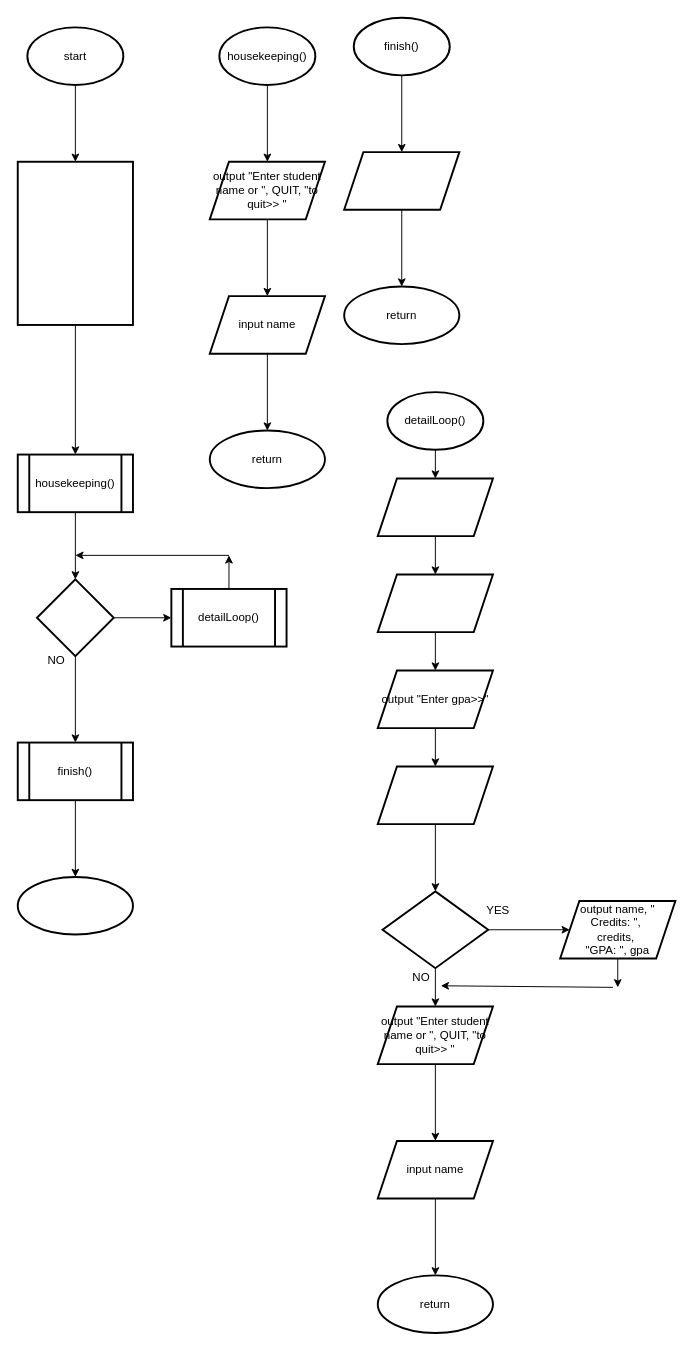
This 692x1350 diagram has some shape labels left out. Each missing label, with the centre of its shape:
credits > 60 AND gpa >= 3.5: pixel 435 929
Declarations string name = "" num credits num gpa string QUIT = "ZZZ": pixel 74 242
input credits: pixel 434 603
input gpa: pixel 434 795
name <> QUIT: pixel 75 617
output "Enter credits>>": pixel 434 507
output "Program finished": pixel 401 180
stop: pixel 74 905
